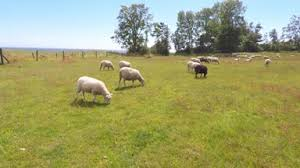sheep: (77, 74, 113, 107), (118, 66, 146, 86), (193, 63, 208, 77), (98, 58, 114, 70), (117, 57, 132, 67), (186, 59, 196, 73), (209, 56, 220, 65), (263, 58, 271, 64)
